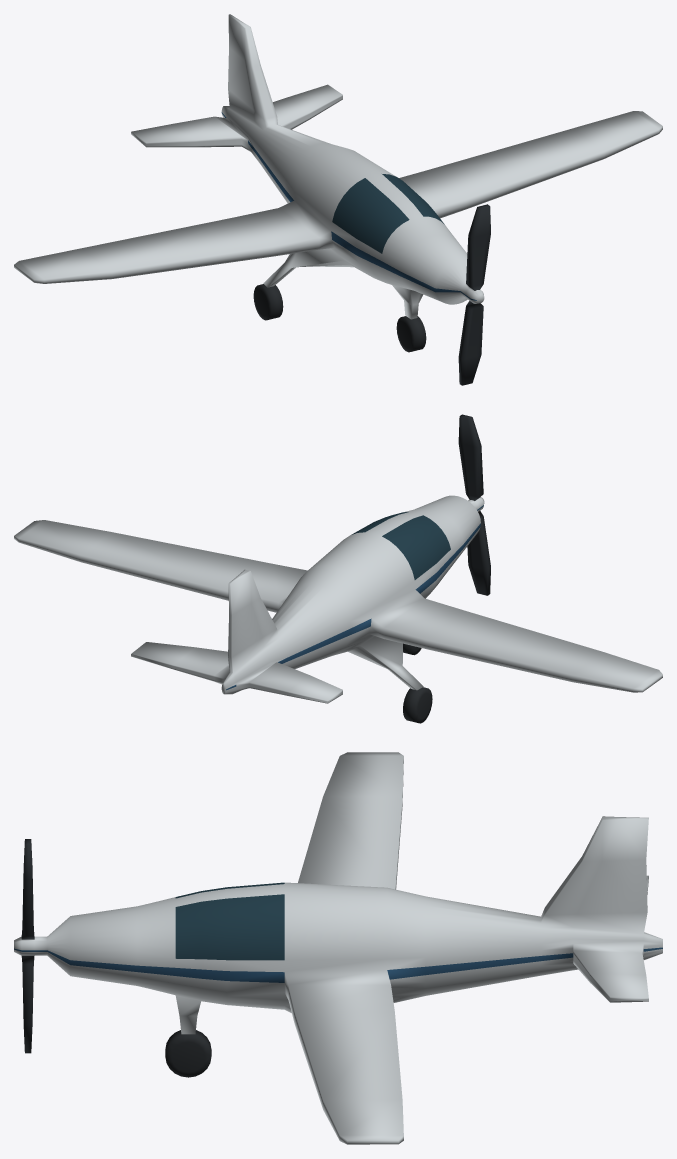
The model's file is A-NEW-20261027-PROPELLER_AIRPLANE-001_LOD2_R1.glb.
3 views of the same model, one above another, from view 1: azimuth 30°, elevation 25°; view 2: azimuth 150°, elevation 25°; view 3: azimuth 270°, elevation 25° (orthographic). The views are drawn at different scales.
Parts seen in each view (by area): view 1: original airplane fuselage wings tail propeller and gear, original fixed wheel 0, original fixed wheel 2; view 2: original airplane fuselage wings tail propeller and gear, original fixed wheel 2; view 3: original airplane fuselage wings tail propeller and gear, original fixed wheel 0.
Boxes of the visible parts, x1,y1,x2,y2 form: original airplane fuselage wings tail propeller and gear: (14,14,662,385); original fixed wheel 0: (396,316,426,352); original fixed wheel 2: (253,284,283,320); original airplane fuselage wings tail propeller and gear: (14,414,662,703); original fixed wheel 2: (403,687,432,723); original airplane fuselage wings tail propeller and gear: (14,752,662,1144); original fixed wheel 0: (165,1030,211,1077).
Size of the model in its own units: 7.16 by 2.2 by 5.06.
